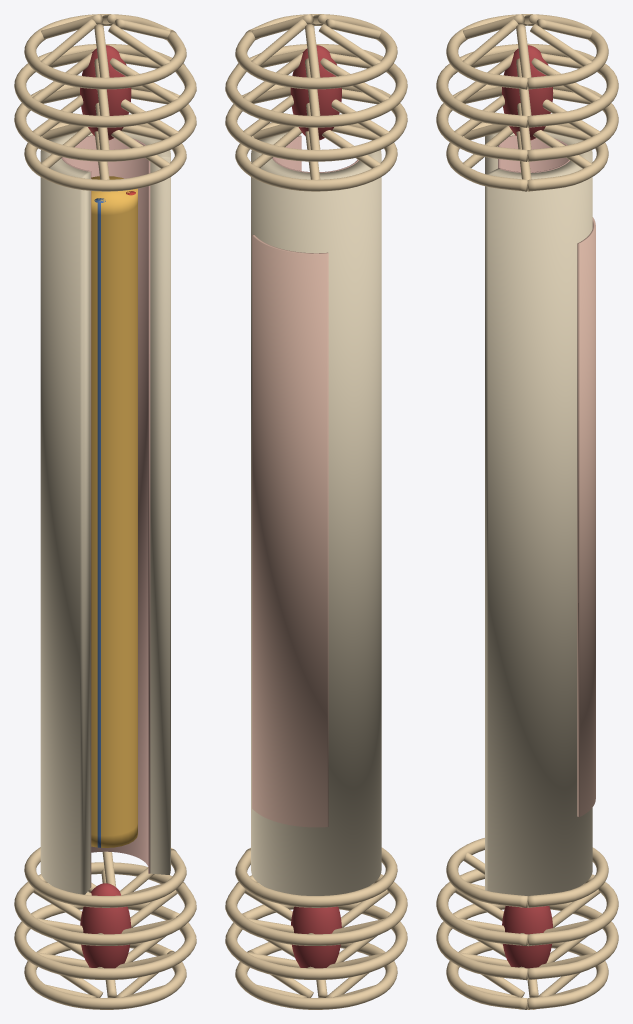
File: humerus-study-v1-cutaway-ultra.glb
The picture shows the model from 3 angles, left to right: view 1: azimuth 30°, elevation 25°; view 2: azimuth 150°, elevation 25°; view 3: azimuth 270°, elevation 25°; orthographic projection.
Parts seen in each view (by area): view 1: study-compact-bone, study-spongy-bone, study-yellow-marrow, study-endosteum, study-red-marrow, study-vein; view 2: study-compact-bone, study-periosteum, study-spongy-bone, study-red-marrow, study-endosteum; view 3: study-compact-bone, study-spongy-bone, study-periosteum, study-red-marrow, study-endosteum.
Boxes of the visible parts, bbox=[...] form: study-compact-bone: bbox=[40, 131, 170, 894]; study-spongy-bone: bbox=[14, 14, 196, 1009]; study-yellow-marrow: bbox=[91, 176, 137, 847]; study-endosteum: bbox=[61, 135, 150, 887]; study-red-marrow: bbox=[80, 45, 131, 968]; study-vein: bbox=[94, 198, 105, 847]; study-compact-bone: bbox=[251, 132, 381, 895]; study-periosteum: bbox=[252, 234, 328, 827]; study-spongy-bone: bbox=[225, 14, 407, 1009]; study-red-marrow: bbox=[290, 45, 341, 968]; study-endosteum: bbox=[272, 136, 358, 172]; study-compact-bone: bbox=[485, 131, 592, 895]; study-spongy-bone: bbox=[436, 14, 618, 1009]; study-periosteum: bbox=[577, 217, 595, 817]; study-red-marrow: bbox=[501, 45, 553, 968]; study-endosteum: bbox=[498, 135, 569, 172].
Size of the model in its own units: 4.62 by 27.52 by 4.61.
